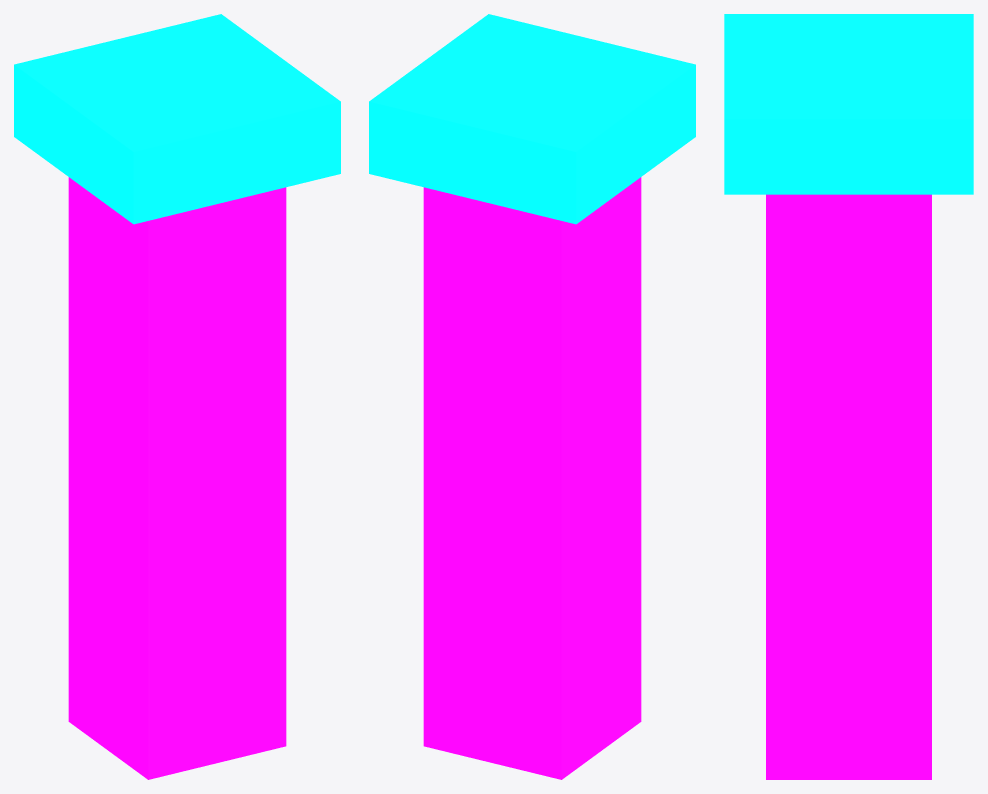
The model's file is deco_neon_2.glb.
The picture shows the model from 3 angles, left to right: view 1: azimuth 30°, elevation 25°; view 2: azimuth 150°, elevation 25°; view 3: azimuth 270°, elevation 25°; orthographic projection. The views are drawn at different scales.
Visible parts, largest first — view 1: deco_neon_2; view 2: deco_neon_2; view 3: deco_neon_2.
Part boxes in pixels (box(x1,y1,x2,y2)): deco_neon_2: box(14, 14, 340, 779); deco_neon_2: box(369, 14, 695, 779); deco_neon_2: box(724, 14, 973, 779).
Size of the model in its own units: 3 by 9 by 3.
